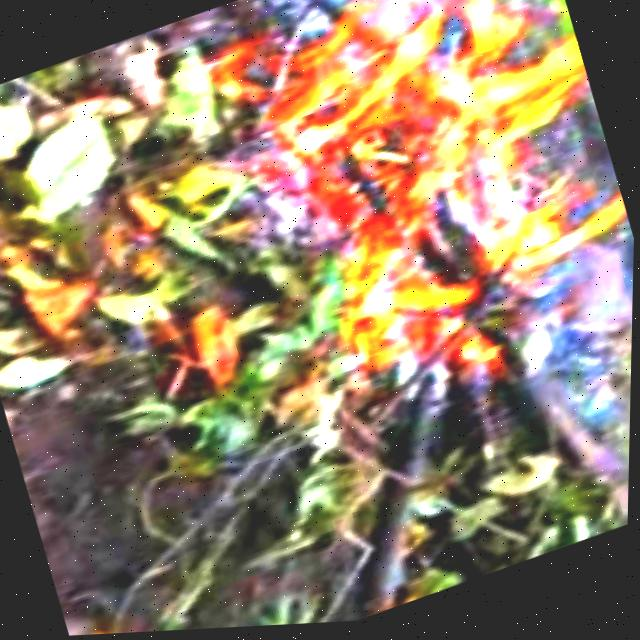Fire: (265, 0, 640, 392)
